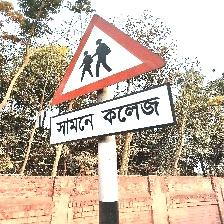College-in-front: (44, 12, 178, 144)
